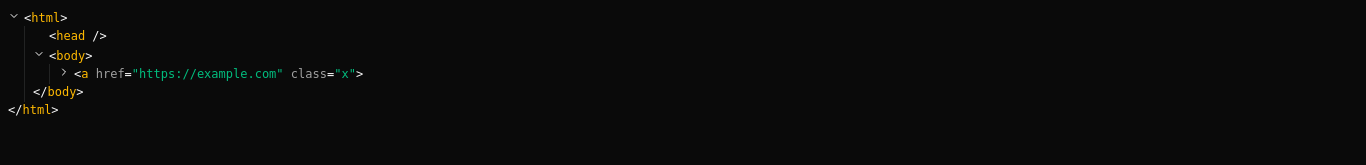
Test case: DomTree › HTML element renders tag + attributes
The image size is (1366, 165).
expect the text "a" is shown: met, box 81,67 -> 88,81
expect the text "href" is shown: met, box 96,67 -> 125,81
Click the button "<a href=\"https://example.com\" class=\"x\">". click: (208, 74)
box: 58,66 -> 1358,82
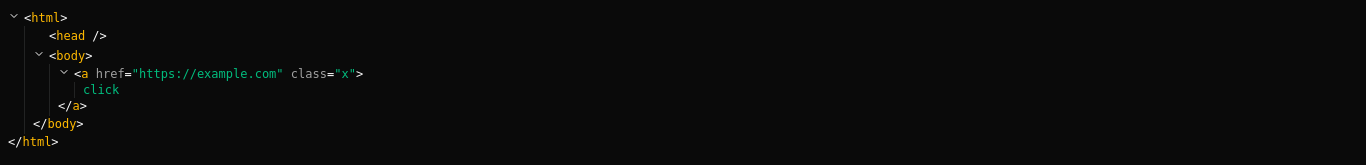
expect the text "click" is shown: met, box 83,83 -> 119,97
